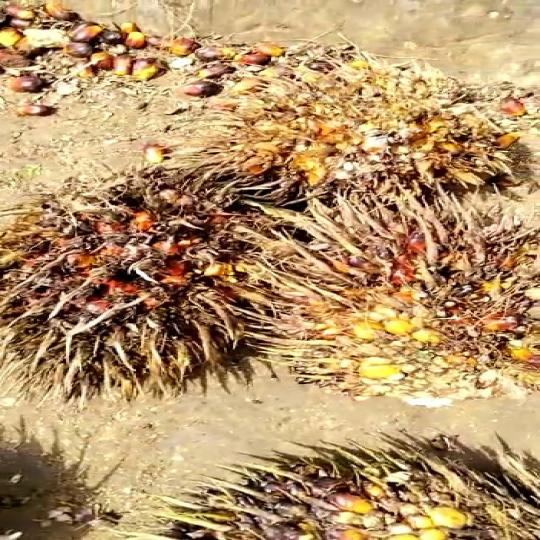terlalu masak: (228, 200, 540, 389), (163, 52, 516, 218), (0, 184, 232, 402)
